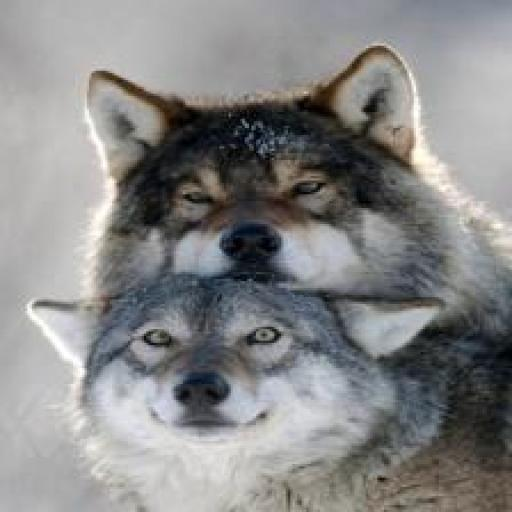wolf: (39, 55, 512, 307), (18, 274, 512, 512)
